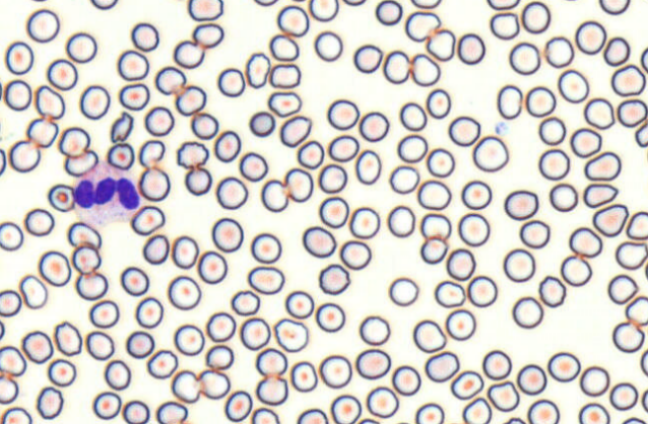GRAN: (73, 159, 142, 225)
PLT: (494, 121, 513, 136)
RBC: (472, 135, 508, 172), (592, 203, 628, 237), (167, 275, 201, 310), (273, 318, 308, 352), (38, 250, 71, 286), (26, 8, 60, 42), (318, 354, 352, 388), (404, 10, 440, 42), (412, 319, 446, 352), (457, 212, 490, 246), (610, 64, 645, 96), (211, 217, 243, 252), (355, 348, 391, 379), (584, 151, 621, 181), (276, 4, 309, 37), (215, 176, 248, 209), (302, 225, 336, 257), (503, 248, 535, 282), (138, 167, 170, 201), (508, 41, 540, 75), (557, 69, 589, 103), (424, 351, 459, 382), (34, 84, 65, 119), (79, 84, 110, 119), (247, 265, 284, 294), (8, 139, 40, 172), (366, 386, 399, 418), (21, 330, 53, 363), (568, 226, 602, 257), (417, 179, 451, 210), (575, 20, 606, 54), (504, 189, 538, 220), (130, 205, 165, 235), (511, 296, 543, 328), (560, 254, 592, 286), (487, 380, 519, 412), (583, 97, 615, 129), (538, 148, 570, 180), (279, 115, 311, 147), (327, 98, 359, 130), (117, 49, 149, 81), (65, 31, 97, 63), (547, 351, 580, 382), (349, 206, 380, 239), (170, 369, 200, 403), (425, 27, 455, 61), (197, 250, 227, 284), (284, 167, 313, 202), (53, 321, 82, 356), (4, 40, 33, 75), (58, 126, 90, 157), (612, 321, 644, 352), (318, 263, 350, 294), (318, 196, 349, 228), (445, 308, 476, 340), (175, 84, 206, 116), (448, 115, 480, 146), (46, 58, 77, 90), (525, 85, 556, 117), (255, 375, 288, 405), (450, 370, 483, 400), (410, 53, 440, 86), (240, 317, 270, 350), (19, 274, 47, 309), (607, 273, 638, 304), (358, 111, 389, 142), (250, 232, 281, 263), (198, 369, 230, 399), (26, 117, 58, 147), (146, 349, 178, 379), (615, 240, 647, 270), (467, 275, 497, 307), (516, 363, 546, 395), (339, 240, 371, 270), (154, 65, 186, 95), (570, 127, 602, 157), (544, 36, 574, 68), (176, 140, 209, 169), (75, 271, 108, 300), (521, 0, 550, 33), (67, 221, 101, 249), (382, 50, 410, 84), (579, 365, 609, 396), (206, 311, 236, 342), (359, 315, 390, 345), (461, 179, 492, 209), (174, 324, 204, 355), (144, 105, 174, 136), (255, 347, 287, 376), (446, 248, 475, 280), (3, 79, 32, 111), (260, 179, 288, 212), (64, 149, 98, 176), (171, 235, 198, 269), (496, 84, 522, 119), (583, 182, 618, 208), (355, 149, 381, 184), (71, 244, 101, 274), (245, 52, 270, 88), (391, 365, 421, 395), (388, 276, 418, 306), (315, 302, 345, 332), (389, 164, 419, 194), (616, 98, 647, 127), (173, 39, 204, 68), (330, 394, 361, 423), (519, 219, 550, 248), (313, 30, 342, 61), (482, 349, 511, 380), (538, 275, 566, 307), (224, 390, 252, 422), (327, 134, 359, 162), (387, 205, 415, 237), (457, 32, 485, 64), (135, 296, 163, 328), (36, 386, 63, 419), (267, 91, 301, 117), (318, 163, 347, 193), (284, 290, 314, 319), (239, 151, 268, 181), (85, 330, 114, 360), (89, 299, 119, 328), (353, 43, 382, 73), (397, 134, 427, 163), (426, 147, 455, 177), (549, 182, 578, 212), (120, 266, 149, 296), (420, 212, 451, 240), (118, 82, 149, 110), (290, 360, 317, 392), (214, 130, 241, 162), (130, 22, 159, 51), (269, 33, 299, 61), (489, 11, 519, 39), (24, 208, 54, 236), (296, 139, 324, 169), (217, 67, 245, 97), (399, 101, 427, 131), (434, 280, 465, 307), (104, 359, 131, 390), (192, 22, 224, 48), (47, 358, 76, 386), (47, 183, 75, 212), (92, 391, 121, 419), (609, 382, 638, 410), (125, 330, 154, 358), (538, 116, 566, 145), (603, 36, 630, 66), (142, 234, 169, 264), (0, 345, 26, 376), (269, 63, 301, 88), (184, 167, 212, 195), (106, 142, 134, 170), (190, 111, 218, 139), (138, 139, 165, 168), (230, 289, 260, 315), (425, 88, 451, 118), (527, 399, 559, 423), (420, 237, 448, 264), (187, 0, 223, 21), (462, 397, 491, 423), (205, 344, 234, 370), (155, 401, 188, 423), (249, 110, 275, 137), (0, 221, 23, 251), (625, 295, 647, 326), (375, 0, 402, 25), (578, 402, 610, 423), (122, 399, 149, 423), (626, 210, 647, 240), (414, 402, 444, 423), (308, 0, 338, 21), (0, 289, 21, 317), (0, 406, 32, 423), (0, 375, 18, 404), (296, 408, 328, 423), (599, 0, 630, 15), (250, 407, 279, 423), (486, 0, 520, 10), (634, 121, 647, 147), (90, 0, 118, 10), (410, 0, 441, 9), (640, 349, 648, 376), (640, 46, 647, 72), (621, 416, 646, 423), (641, 388, 648, 412), (0, 148, 6, 175), (503, 416, 526, 423), (253, 0, 278, 6), (342, 0, 366, 6), (357, 417, 379, 423), (0, 320, 5, 339), (644, 259, 648, 280), (0, 79, 3, 101), (29, 0, 50, 2), (290, 0, 307, 2), (560, 0, 583, 1)
Schistocyte: (109, 112, 135, 142)
